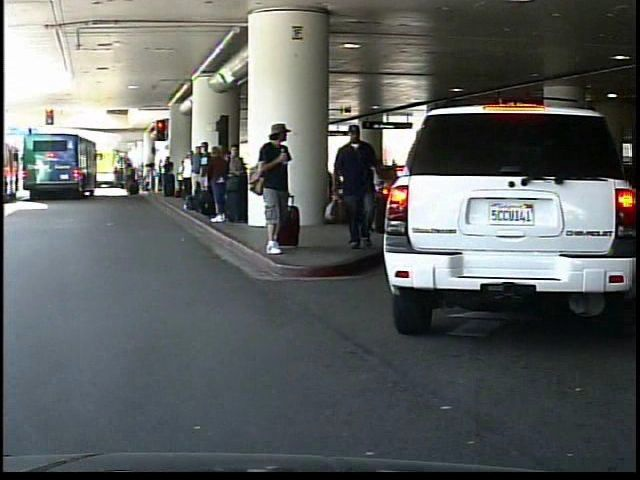person: (334, 124, 390, 251), (255, 120, 303, 254)
